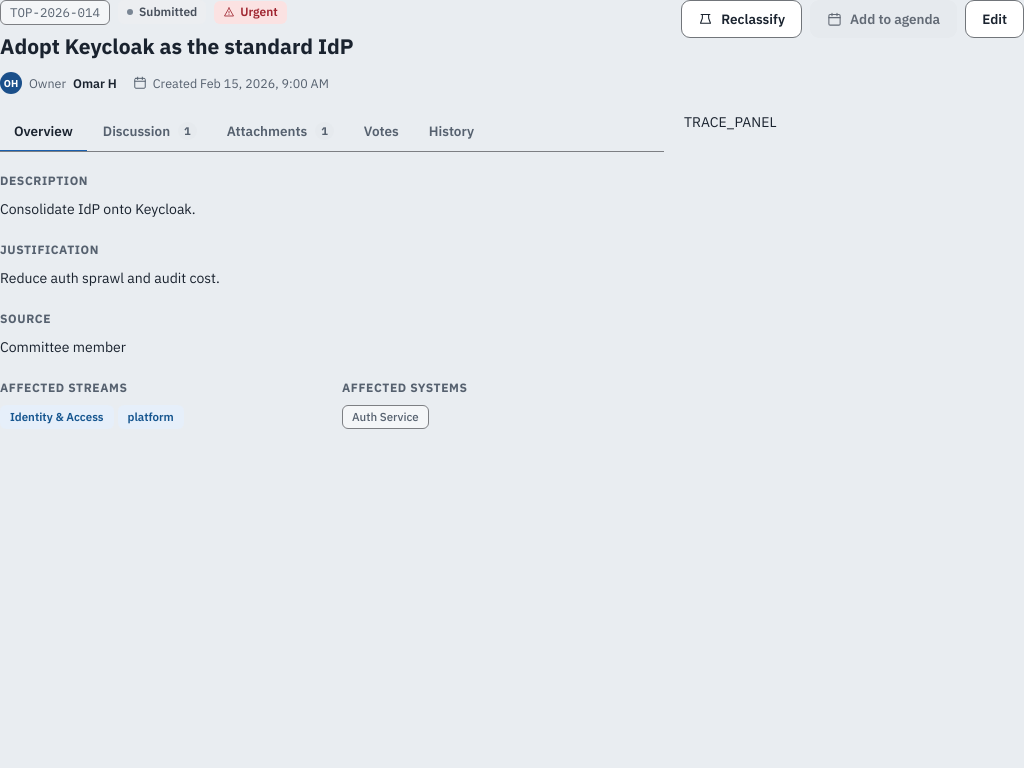
Test: TopicDetail (P5b) › cancels the Submitted lifecycle dialog without committing
Step 1. Click the button "Reclassify" → (742, 19), box [681, 0, 802, 38]
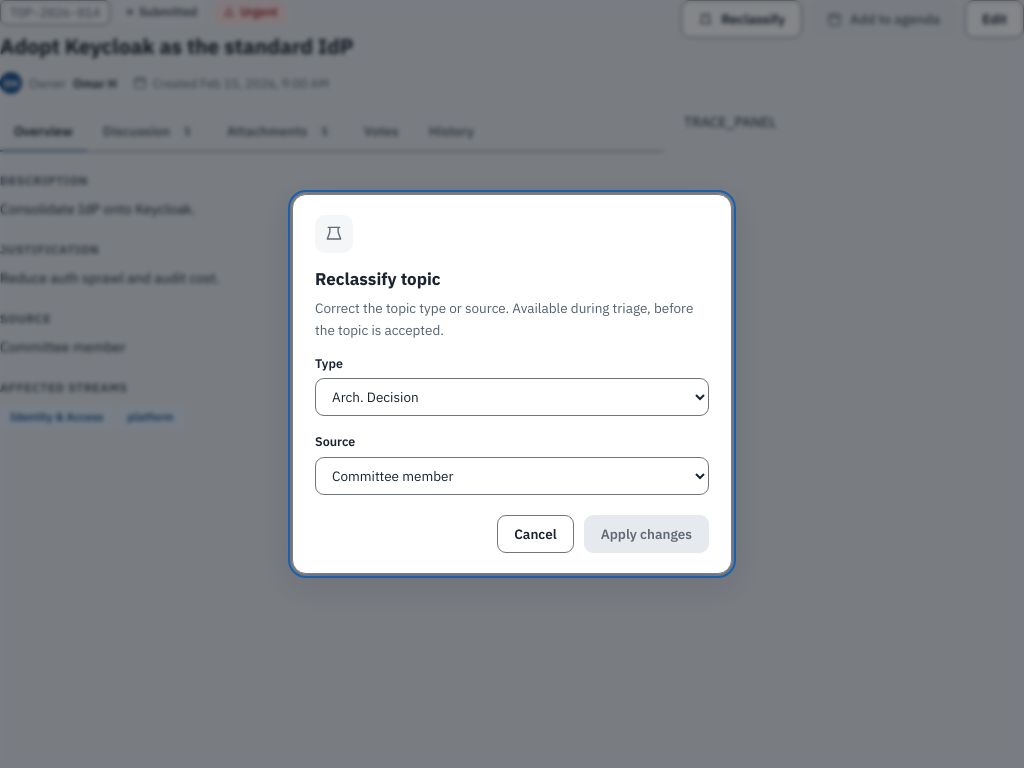
expect the button "Apply changes" is shown: met, box [584, 515, 709, 553]
Step 2. Click the button "Cancel" → (535, 534), box [497, 515, 574, 553]
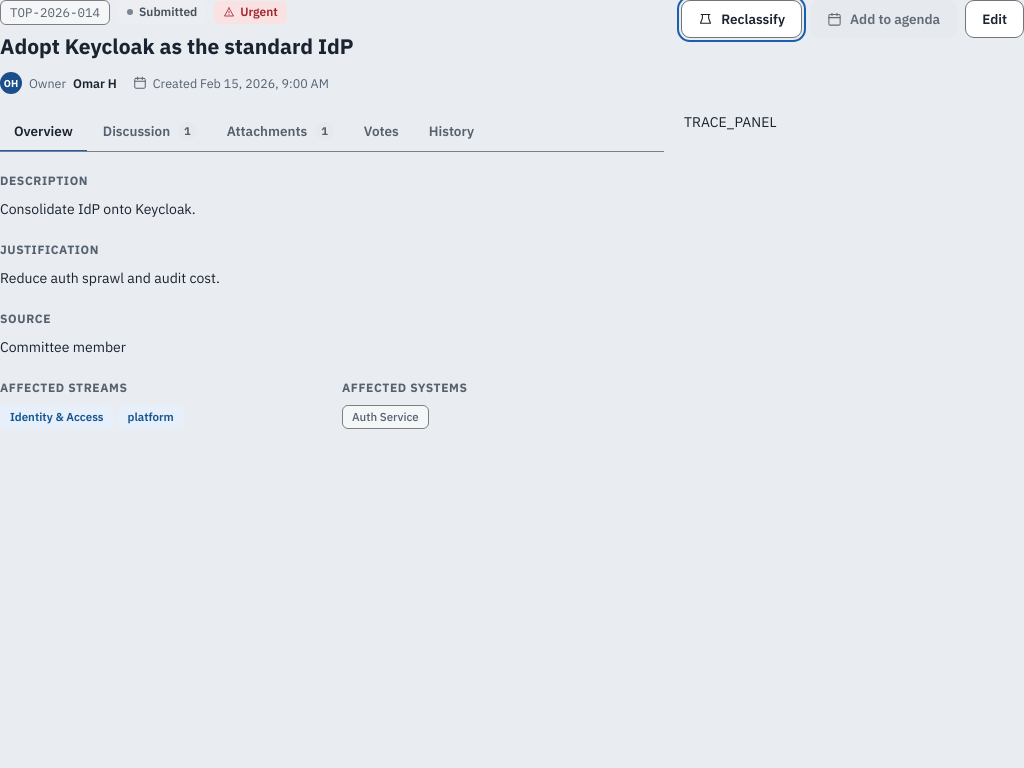
expect the button "Apply changes" is gone: met
